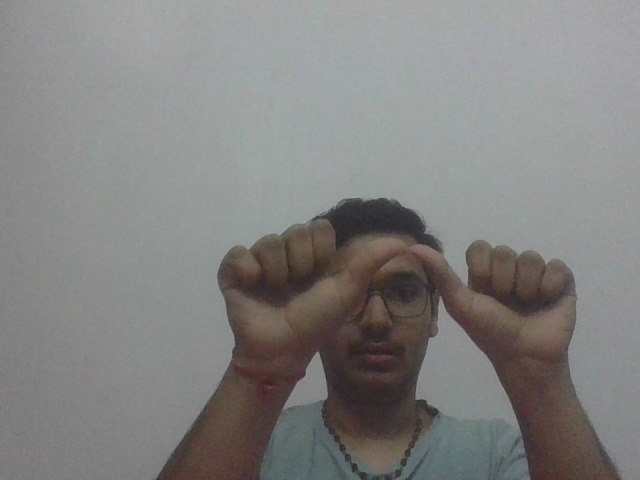A: (209, 214, 594, 361)
